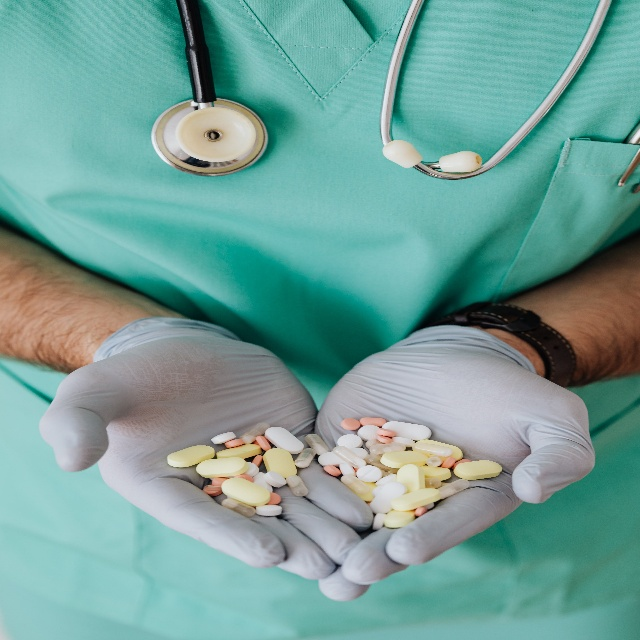Guantes: (38, 316, 374, 580), (313, 323, 595, 604)
